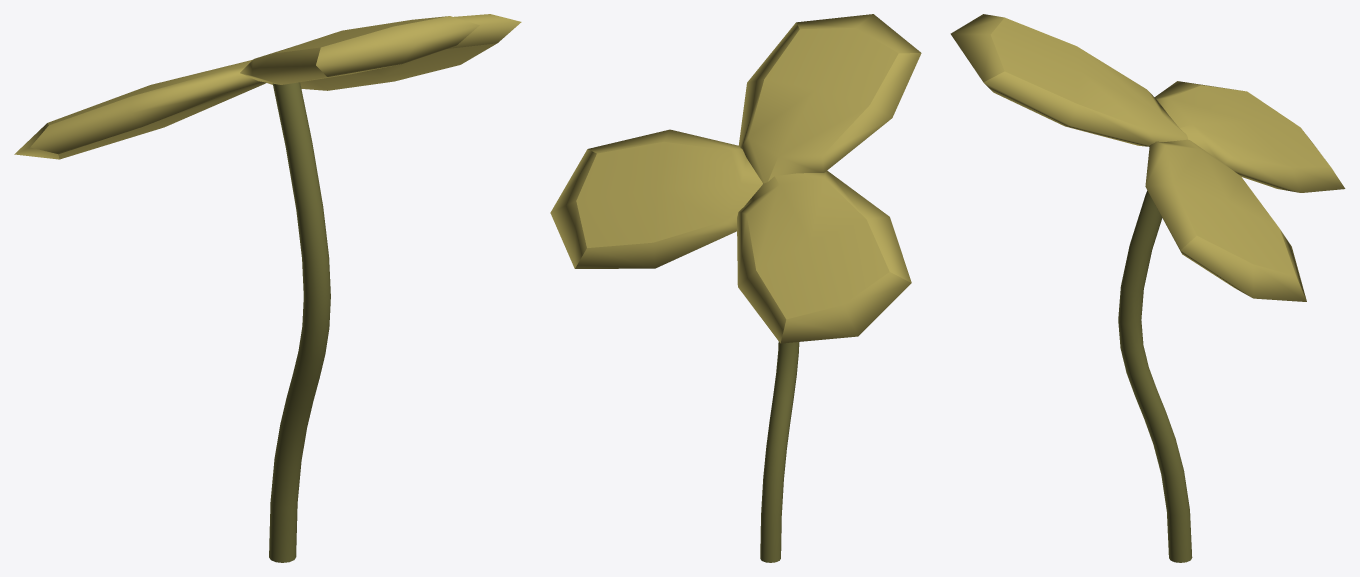
Rendered from Clover1.fbx.
3 renders of one model, left to right at view 1: azimuth 30°, elevation 25°; view 2: azimuth 150°, elevation 25°; view 3: azimuth 270°, elevation 25°, orthographic. The views are drawn at different scales.
Parts seen in each view (by area): view 1: BézierCurve; view 2: BézierCurve; view 3: BézierCurve.
Part boxes in pixels (left/top/right/bottom): BézierCurve: left=14, top=14, right=521, bottom=562; BézierCurve: left=550, top=14, right=921, bottom=562; BézierCurve: left=950, top=14, right=1345, bottom=562.
Bounding box in the file's own units: 197 × 249 × 170.
